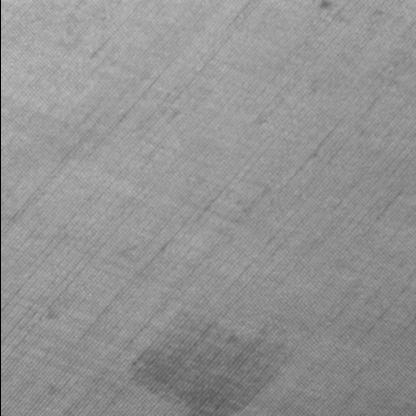oil spot: (121, 310, 293, 416)
